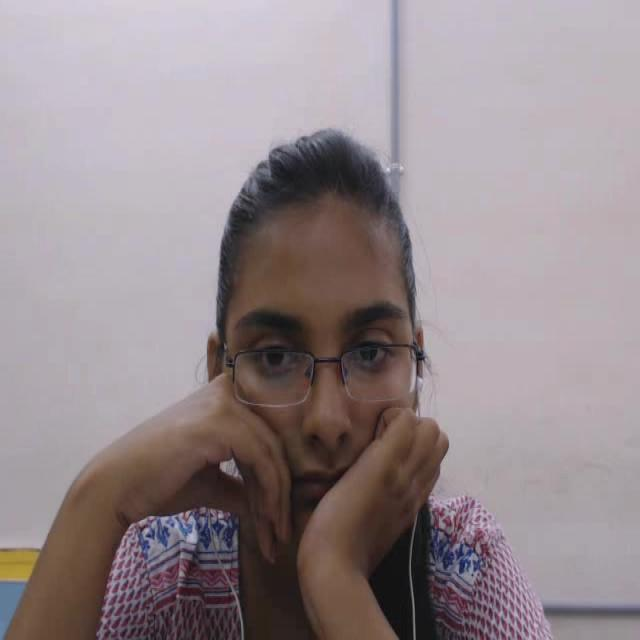Bored: (166, 60, 504, 578)
